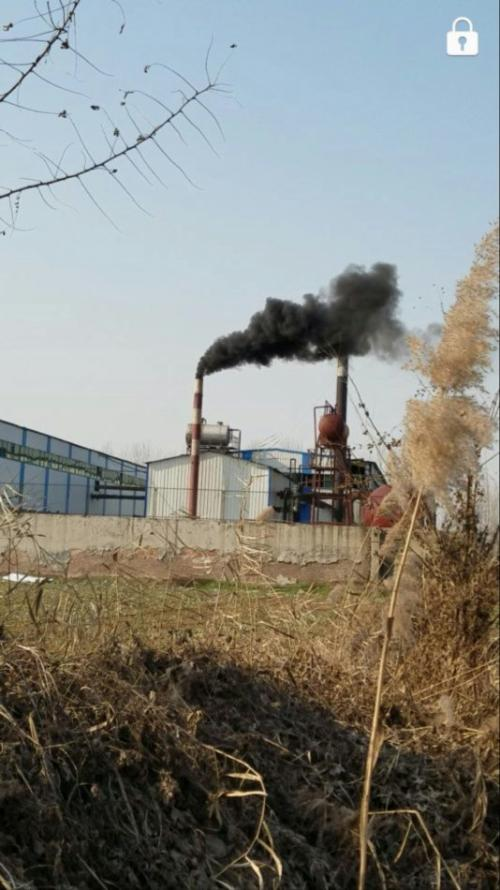smoke: (192, 256, 399, 381)
